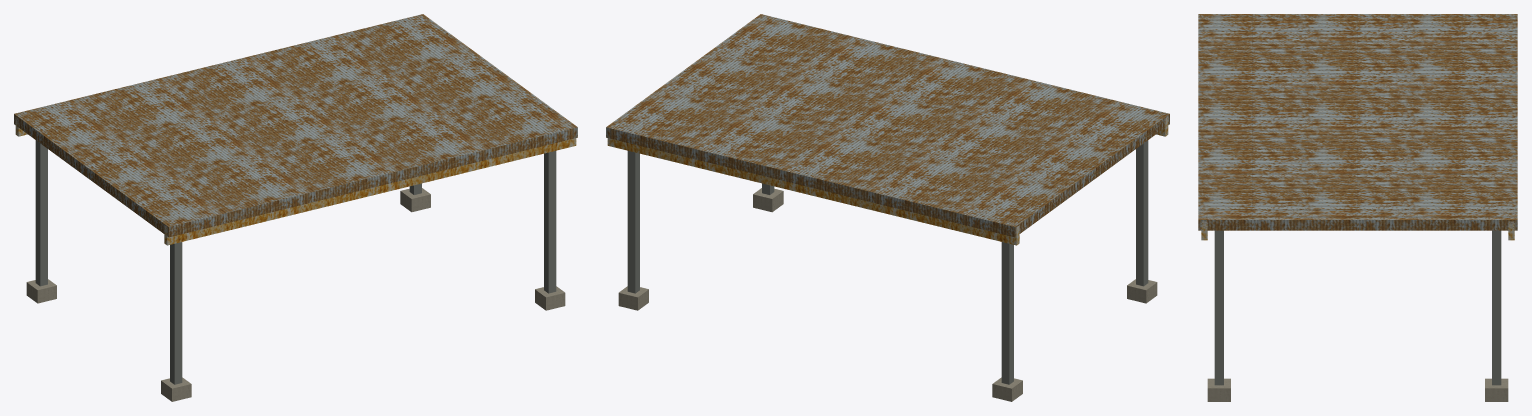
The model's file is fuel_canopy.glb.
3 renders of one model, left to right at view 1: azimuth 30°, elevation 25°; view 2: azimuth 150°, elevation 25°; view 3: azimuth 270°, elevation 25°, orthographic. The views are drawn at different scales.
Visible parts, largest first — view 1: Canopy_roof_separate, Canopy_front_fascia, Canopy_post_-5.3_3.3, Canopy_post_-5.3_-3.3, Canopy_post_5.3_-3.3, Concrete_foot_-5.3_-3.3, Concrete_foot_-5.3_3.3, Concrete_foot_5.3_3.3, Concrete_foot_5.3_-3.3; view 2: Canopy_roof_separate, Canopy_rear_fascia, Canopy_post_-5.3_-3.3, Canopy_post_-5.3_3.3, Canopy_post_5.3_3.3, Concrete_foot_-5.3_3.3, Concrete_foot_-5.3_-3.3, Concrete_foot_5.3_-3.3, Concrete_foot_5.3_3.3; view 3: Canopy_roof_separate, Canopy_post_5.3_-3.3, Canopy_post_5.3_3.3, Concrete_foot_5.3_-3.3, Concrete_foot_5.3_3.3.
Boxes of the visible parts, <box> form: Canopy_roof_separate: <box>14,14,577,237</box>; Canopy_front_fascia: <box>164,138,576,245</box>; Canopy_post_-5.3_3.3: <box>35,140,47,286</box>; Canopy_post_-5.3_-3.3: <box>170,242,182,384</box>; Canopy_post_5.3_-3.3: <box>544,151,556,293</box>; Concrete_foot_-5.3_-3.3: <box>161,377,191,401</box>; Concrete_foot_-5.3_3.3: <box>26,279,56,303</box>; Concrete_foot_5.3_3.3: <box>400,188,430,212</box>; Concrete_foot_5.3_-3.3: <box>535,286,565,310</box>; Canopy_roof_separate: <box>606,14,1169,237</box>; Canopy_rear_fascia: <box>607,138,1019,245</box>; Canopy_post_-5.3_-3.3: <box>1136,140,1148,286</box>; Canopy_post_-5.3_3.3: <box>1001,242,1013,384</box>; Canopy_post_5.3_3.3: <box>627,151,639,293</box>; Concrete_foot_-5.3_3.3: <box>992,377,1022,401</box>; Concrete_foot_-5.3_-3.3: <box>1127,279,1157,303</box>; Concrete_foot_5.3_-3.3: <box>753,188,783,212</box>; Concrete_foot_5.3_3.3: <box>618,286,648,310</box>; Canopy_roof_separate: <box>1198,14,1517,230</box>; Canopy_post_5.3_-3.3: <box>1214,230,1223,385</box>; Canopy_post_5.3_3.3: <box>1492,230,1501,385</box>; Concrete_foot_5.3_-3.3: <box>1207,378,1230,401</box>; Concrete_foot_5.3_3.3: <box>1485,378,1508,401</box>.
Size of the model in its own units: 11.6 by 4.88 by 7.6.
4 materials, 3 textured.
